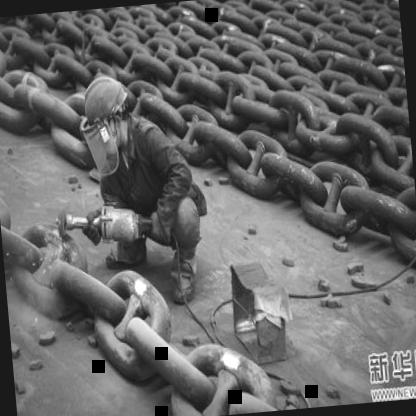helmet: (76, 72, 140, 150)
